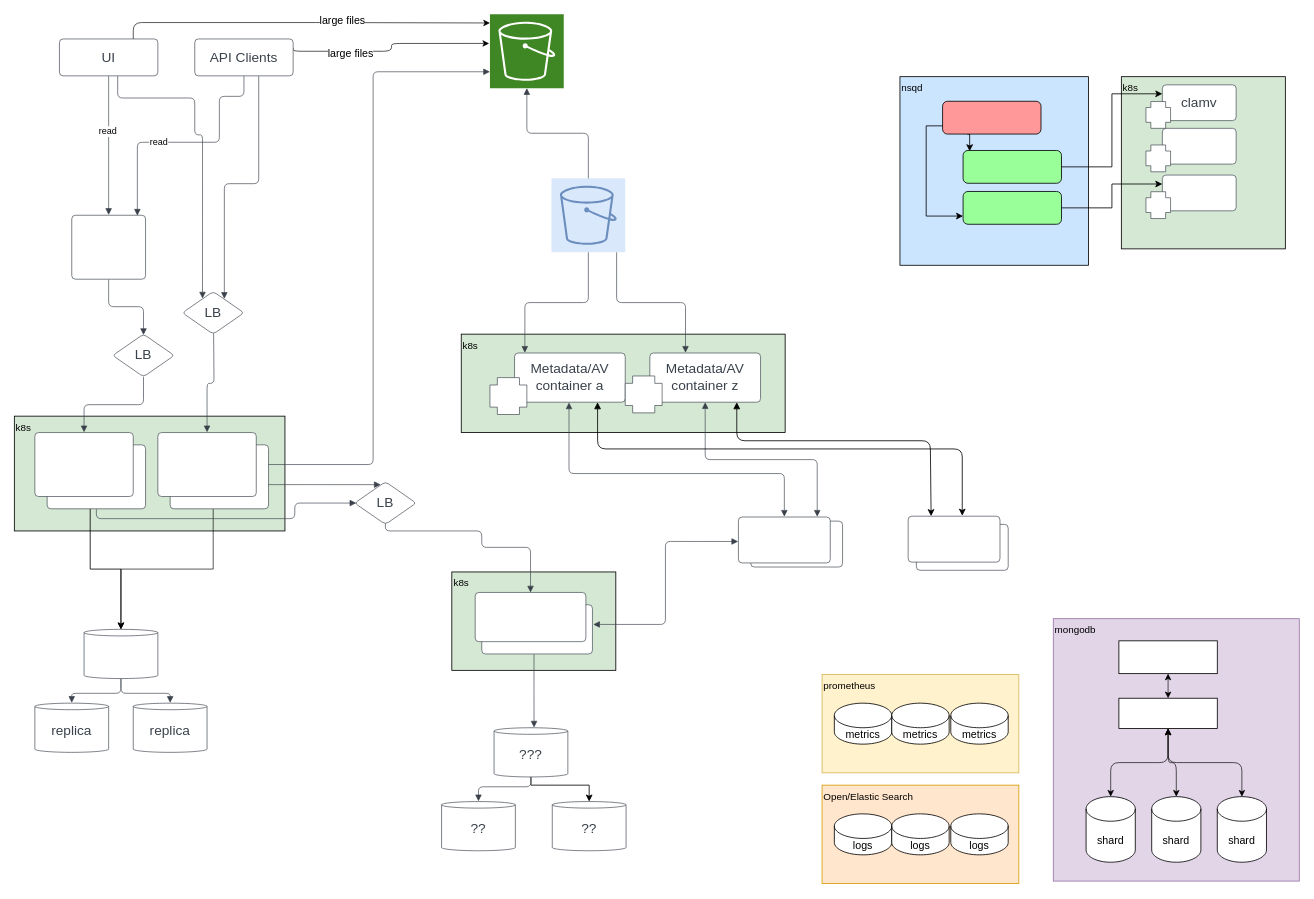
Image size: 1314x899. Some labels were removed from this diagram. The shapes that lost their labels are listed below. From the top down, each one's centre as x and y in pixels, then its label:
At (x=526, y=51): "Amazon Simple Storage Service (S3)".
At (x=991, y=117): "scan topic".
At (x=1011, y=166): "clamv-channel".
At (x=1199, y=146): "clamav".
At (x=1011, y=207): "escan-channel".
At (x=1199, y=192): "escan".
At (x=588, y=215): "Storage Cache".
At (x=108, y=247): "varnish cache".
At (x=83, y=464): "File service (read)".
At (x=206, y=464): "File service (write)".
At (x=784, y=539): "scan processing queue".
At (x=953, y=538): "deadletter queue".
At (x=530, y=617): "Analysis service".
At (x=120, y=653): "MySQL".
At (x=1167, y=657): "client".
At (x=1167, y=713): "router".
